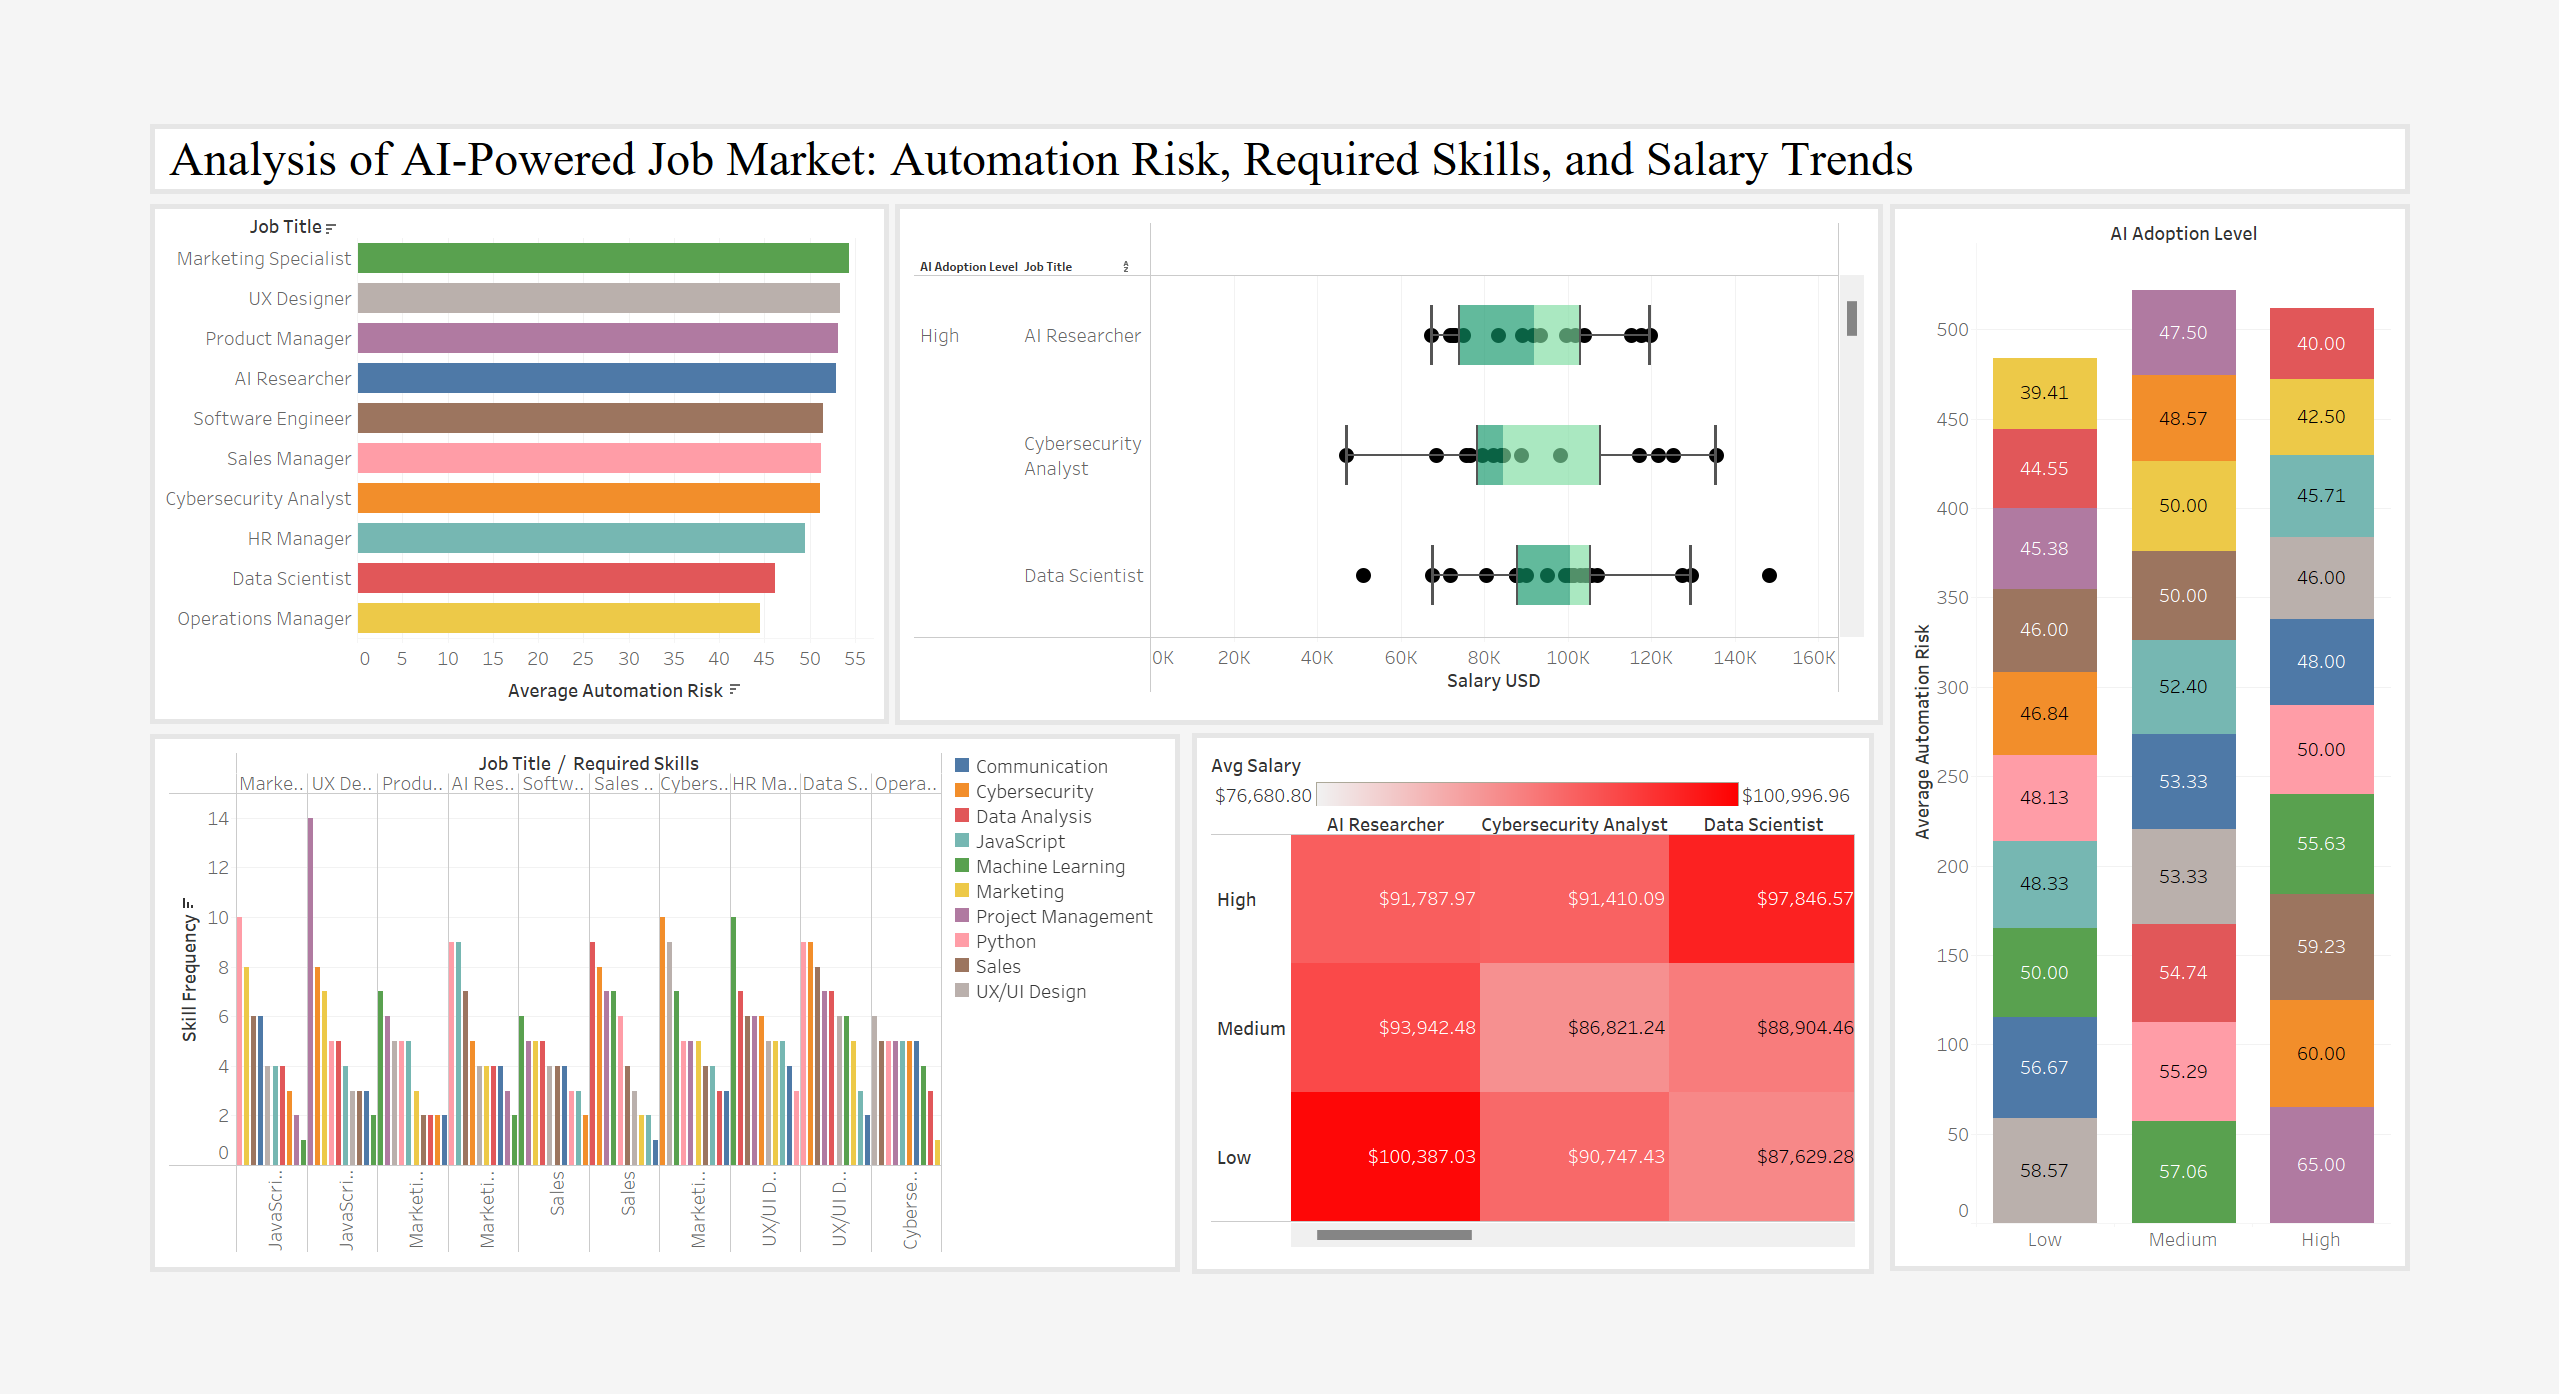

The dashboard page shown, as its layout file describes it:
{"tool":"tableau","page":{"name":"Dashboard 1","canvas":[1000,1000],"units":"permille","ordinal":0},"visuals":[{"type":"text","box":[0,0,1000,77.2]},{"type":"worksheet","title":"Sheet 2","mark":"Automatic","rows":["Job_Title (High-Risk Roles)"],"cols":["average_automation_risk"],"box":[0,68.6,332.9,463.1]},{"type":"worksheet","title":"Sheet 4 (2)","mark":"Circle","rows":["AI_Adoption_Level","Job_Title"],"cols":["Salary_USD"],"box":[337.7,90.1,420.2,409.9]},{"type":"worksheet","title":"Sheet 3","mark":"Automatic","rows":["average_automation_risk"],"cols":["AI_Adoption_Level"],"box":[774.1,90.1,214.9,889.4]},{"type":"legend","title":"Sheet 4","param":"[federated.0ummbtp0u5dwi718hflo10gqj6ac].[sum:avg_salary:qk]","box":[468,543.8,285.9,53.2]},{"type":"worksheet","title":"Sheet 2 (2)","mark":"Automatic","rows":["skill_frequency"],"cols":["Job_Title","Required_Skills"],"box":[11,544.6,342.5,435.7]},{"type":"legend","title":"Sheet 2 (2)","param":"[federated.1jgs03f10i2pez1dd7u4v1qd0d11].[none:Required_Skills:nk]","box":[353.5,544.6,96,435.7]},{"type":"worksheet","title":"Sheet 4","mark":"Square","rows":["AI_Adoption_Level"],"cols":["Job_Title"],"box":[468,596.9,285.9,379.1]}]}

Visuals, with their boxes on the dashboard's canvas, which has no fixed pixel size, in thousandths of its width and height (x1, y1, x2, y2). These are canvas units, not pixel positions in the 2559x1394 screenshot, which may show the page scaled, cropped or inside an application window:
text: (0, 0, 1000, 77)
"Sheet 2" worksheet: (0, 69, 333, 532)
"Sheet 4 (2)" worksheet (Circle marks): (338, 90, 758, 500)
"Sheet 3" worksheet: (774, 90, 989, 980)
"Sheet 4" legend: (468, 544, 754, 597)
"Sheet 2 (2)" worksheet: (11, 545, 354, 980)
"Sheet 2 (2)" legend: (354, 545, 450, 980)
"Sheet 4" worksheet (Square marks): (468, 597, 754, 976)
